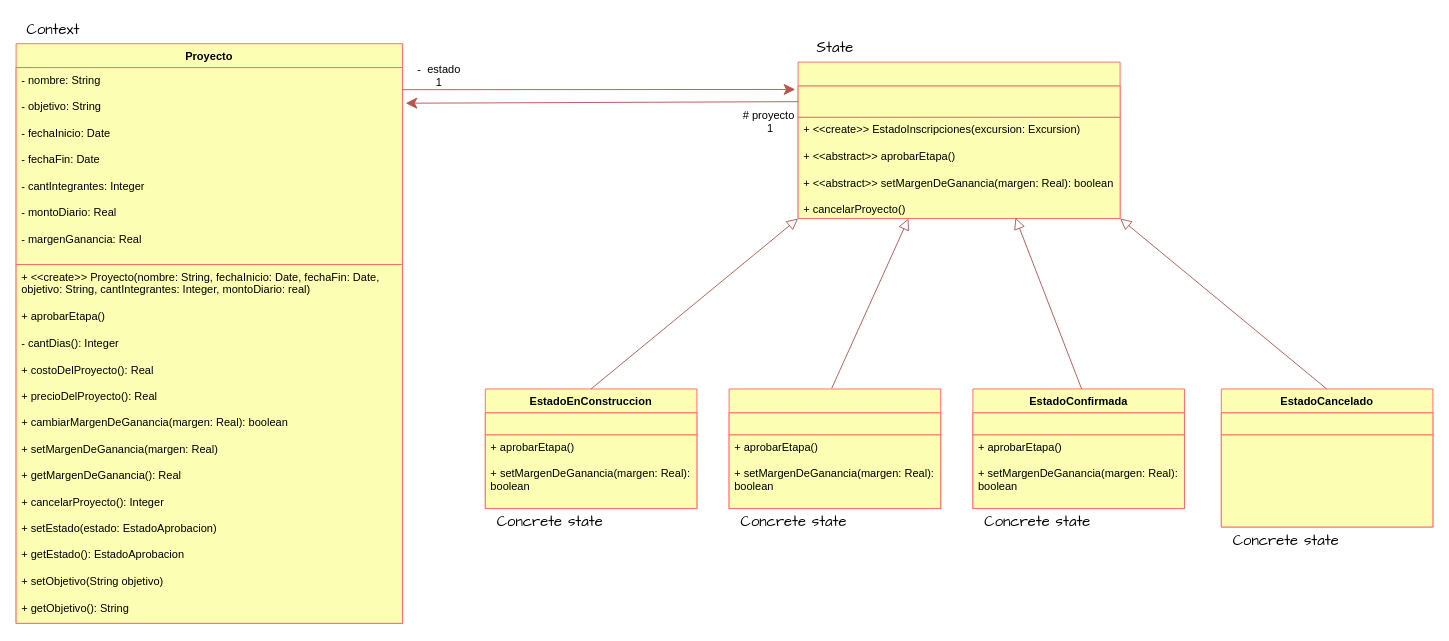
Some shapes in this 1449 by 641 pixel diagram are drawn without their labels. The shapes that lost their labels are listed below. From the top down, each one's box as (x1, y1, x2, y2) in pixels, then its label:
(797, 61, 1120, 218): <<abstract>> EstadoAprobacion
(728, 388, 941, 509): EstadoEnEvaluacion
(1220, 434, 1433, 527): + aprobarEtapa() + setMargenDeGanancia(margen: Real): boolean + cancelar()
